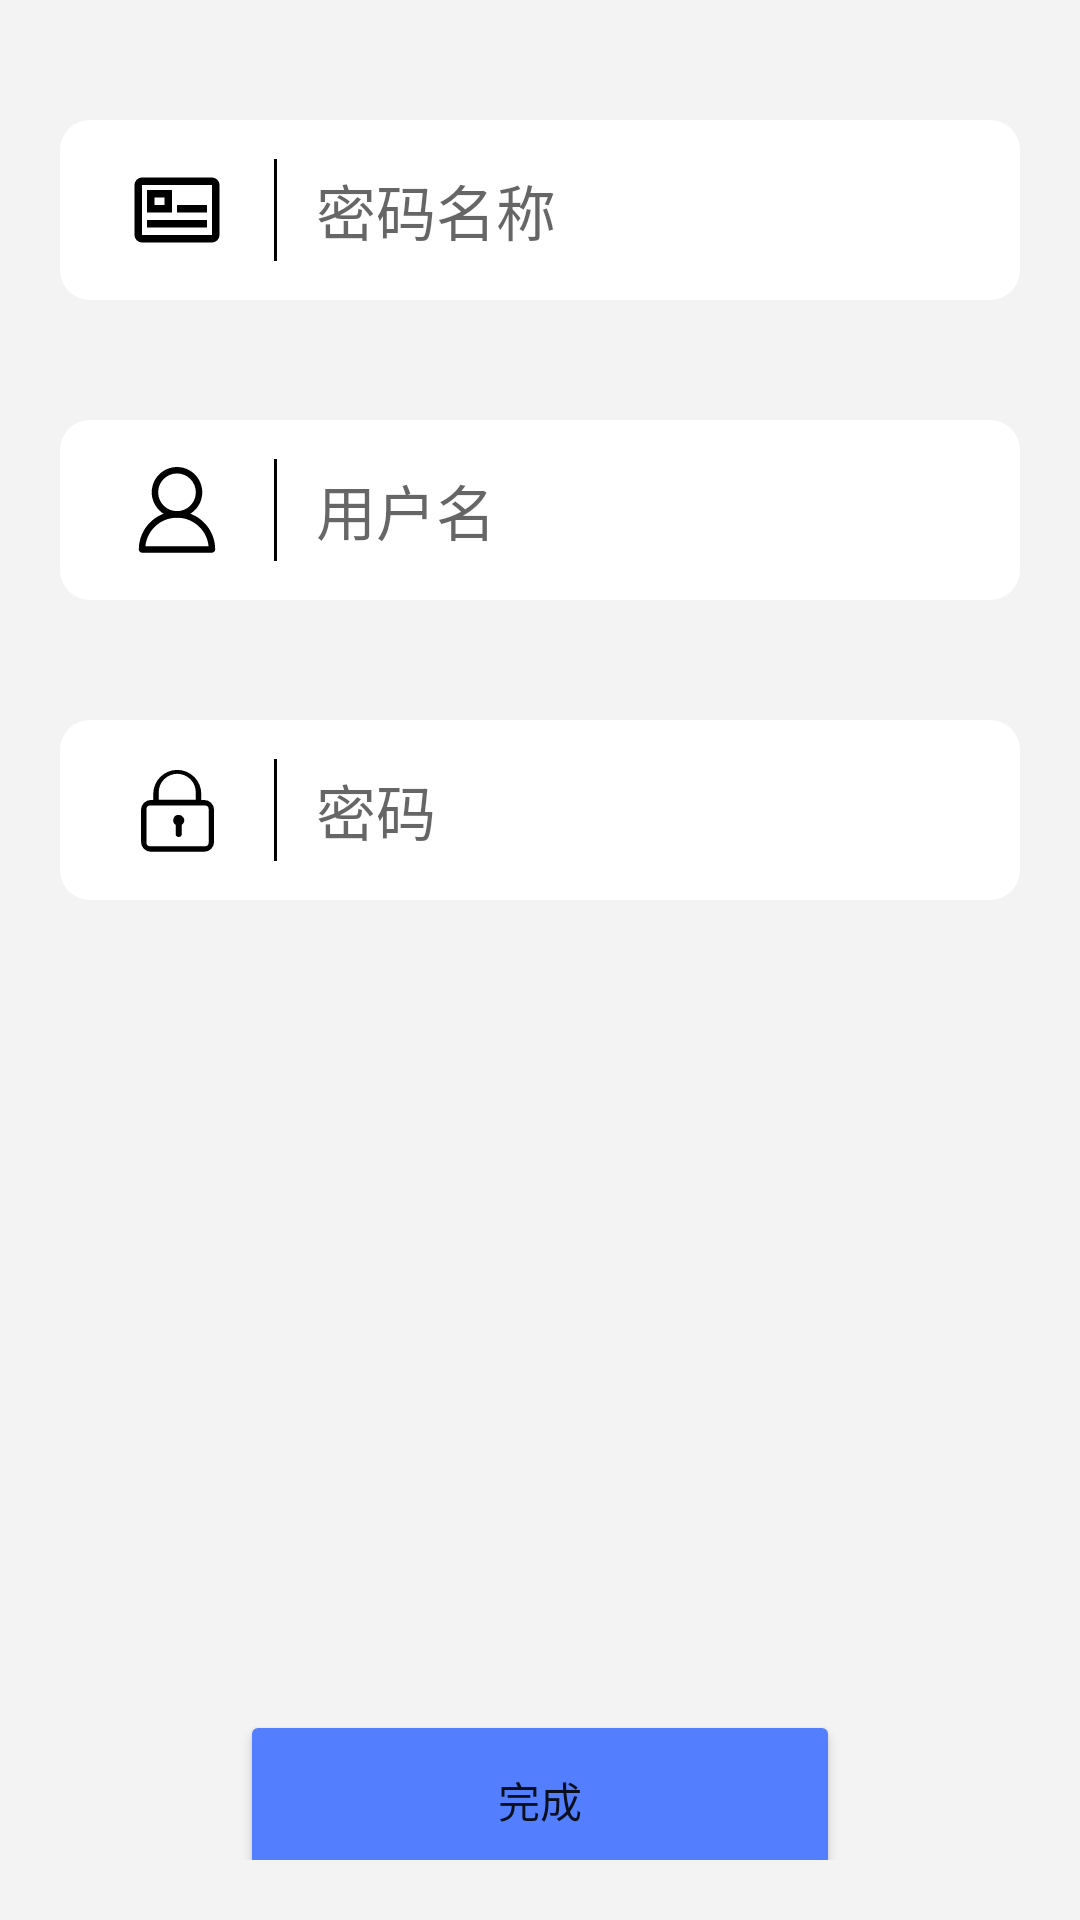

Icon click points for this 1080px x 1920px phone screenshot, format (x=x, y=y):
key content: (x=177, y=811)
key name: (x=177, y=210)
username: (x=177, y=510)
